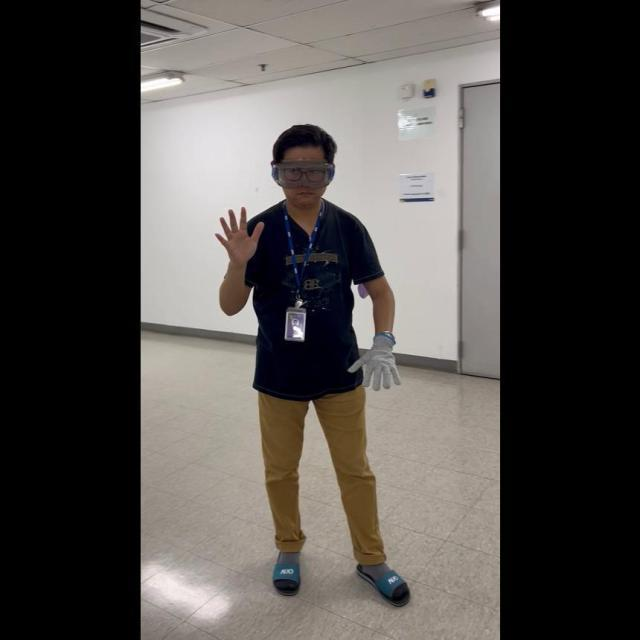bare_hand: (213, 202, 263, 265)
gloved_hand: (346, 330, 402, 390)
